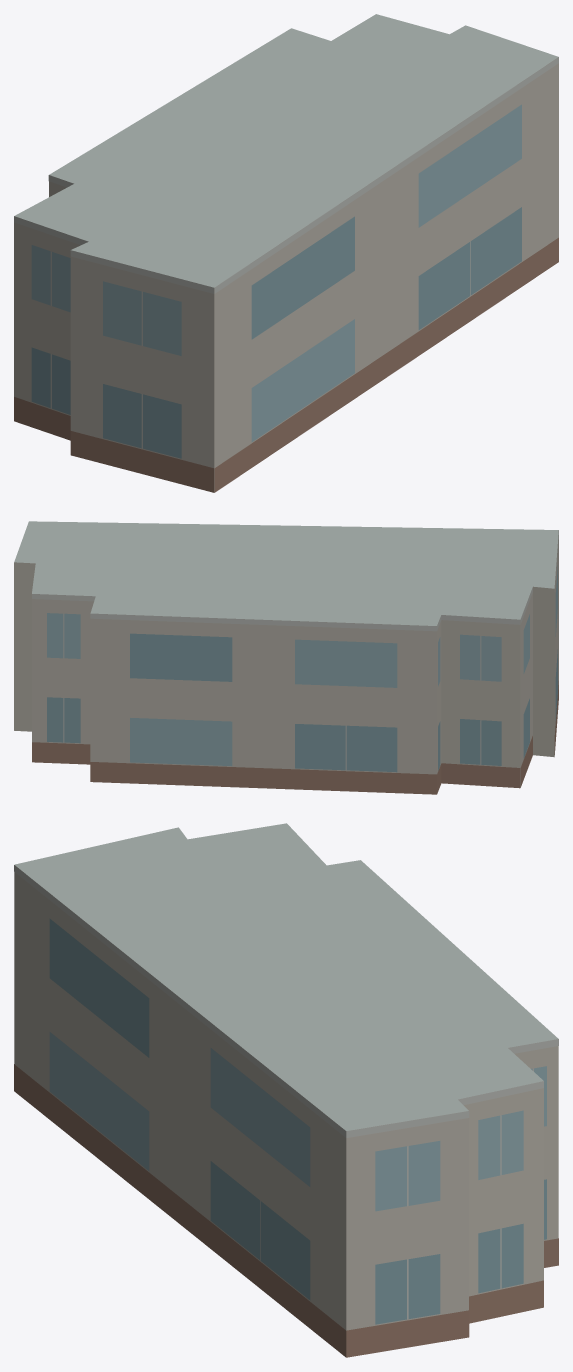
The model's file is survey-upis-33003510.glb.
The picture shows the model from 3 angles, top to bottom: view 1: azimuth 30°, elevation 25°; view 2: azimuth 150°, elevation 25°; view 3: azimuth 270°, elevation 25°; orthographic projection. The views are drawn at different scales.
Parts seen in each view (by area): view 1: survey-upis-33003510.tmp; view 2: survey-upis-33003510.tmp; view 3: survey-upis-33003510.tmp.
Boxes of the visible parts, x1,y1,x2,y2 form: survey-upis-33003510.tmp: (14, 14, 558, 492); survey-upis-33003510.tmp: (14, 521, 558, 794); survey-upis-33003510.tmp: (14, 823, 558, 1357).
Bounding box in the file's own units: 23.05 × 7.9 × 17.23.
